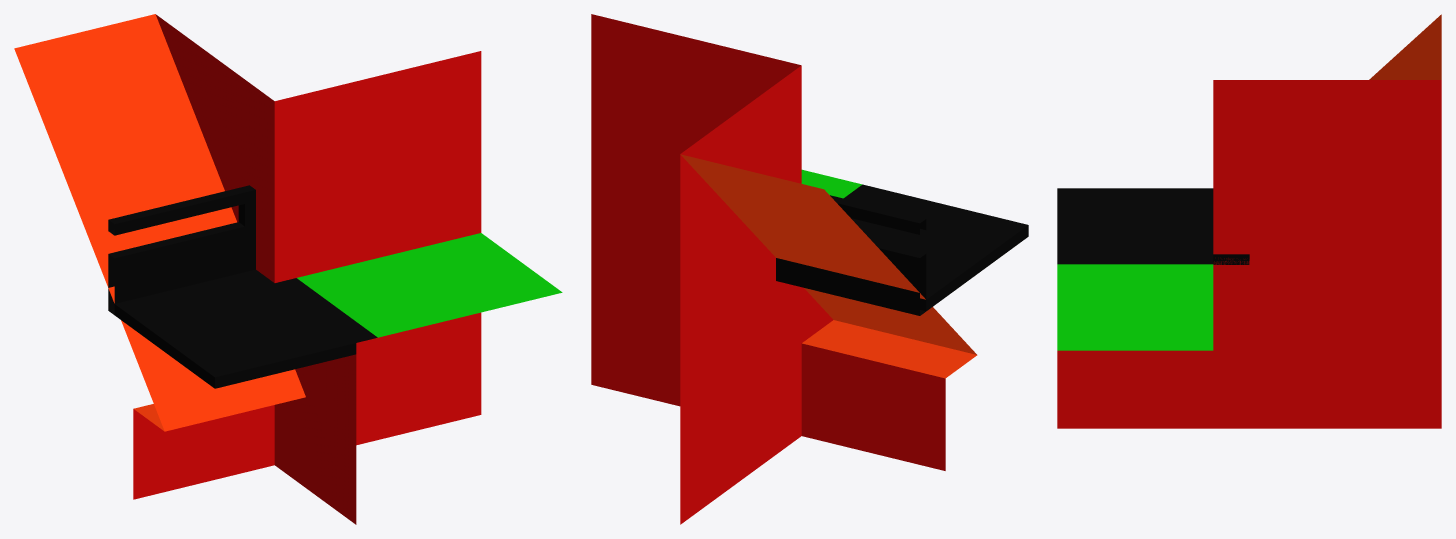
3 renders of one model, left to right at view 1: azimuth 30°, elevation 25°; view 2: azimuth 150°, elevation 25°; view 3: azimuth 270°, elevation 25°, orthographic. The views are drawn at different scales.
Parts seen in each view (by area): view 1: None_A_W_A_E_S_P_E_E_None; view 2: None_A_W_A_E_S_P_E_E_None; view 3: None_A_W_A_E_S_P_E_E_None.
Part boxes in pixels (x1,y1,x2,y2): None_A_W_A_E_S_P_E_E_None: [14, 14, 562, 524]; None_A_W_A_E_S_P_E_E_None: [591, 14, 1028, 524]; None_A_W_A_E_S_P_E_E_None: [1057, 14, 1441, 428].
Size of the model in its own units: 100 by 100 by 100.
